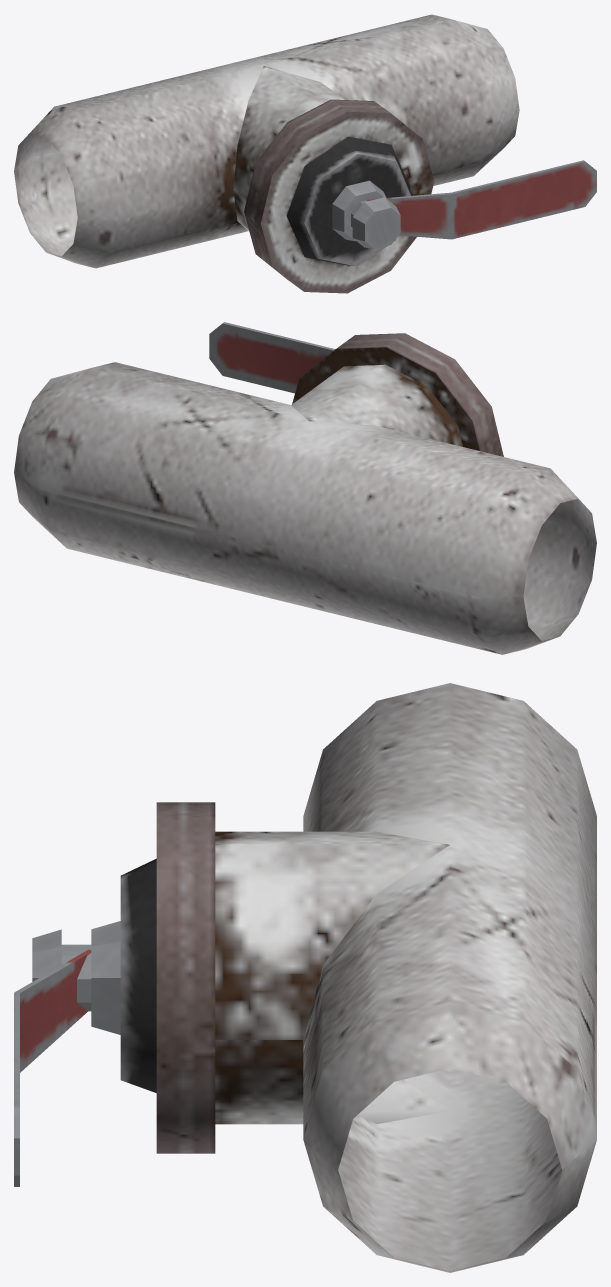
Rendered from pipe_valve_b.fbx.
3 renders of one model, top to bottom at view 1: azimuth 30°, elevation 25°; view 2: azimuth 150°, elevation 25°; view 3: azimuth 270°, elevation 25°, orthographic. The views are drawn at different scales.
Visible parts, largest first — view 1: pipe_valve_b; view 2: pipe_valve_b; view 3: pipe_valve_b.
Part boxes in pixels (<box>): pipe_valve_b: <box>14,14,596,293</box>; pipe_valve_b: <box>14,322,596,654</box>; pipe_valve_b: <box>14,683,596,1272</box>.
Bounding box in the file's own units: 40 × 15.73 × 26.02.
